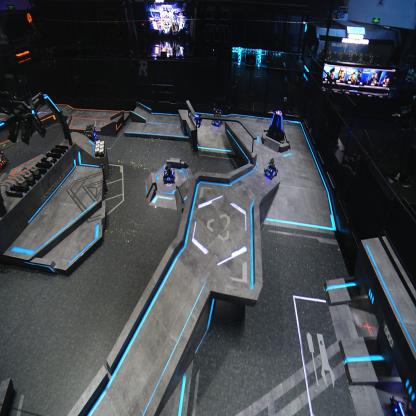car: (388, 388, 416, 416), (82, 123, 98, 146), (264, 158, 278, 180), (0, 147, 10, 174), (162, 163, 175, 183), (211, 108, 222, 126)
